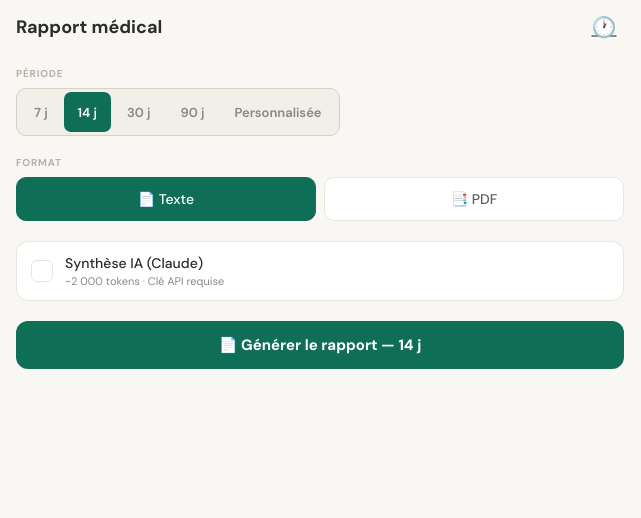
it: ReportBuilderComponent › période personnalisée › affiche un message d'erreur si la date de fin est antérieure à la date de début
The width and height of the screenshot is (641, 518).
Click the button with test id "window-custom".
click(278, 112)  # box [220,92,336,132]
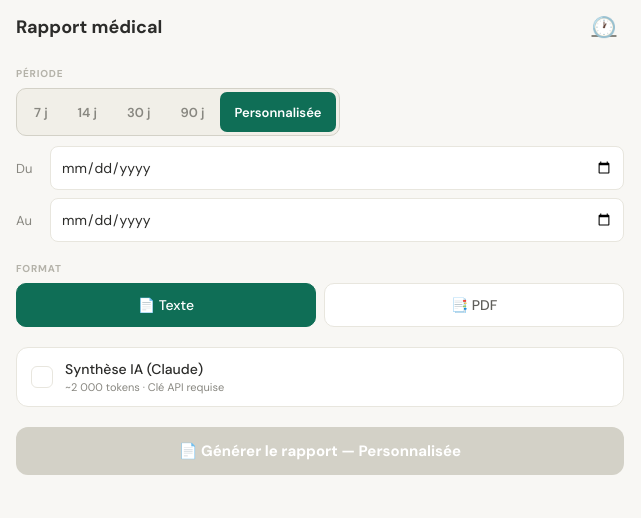
Type "2026-05-10" into the date field with test id "custom-start-date".
click(337, 168); type("2026-05-10")  # box [50,146,624,190]
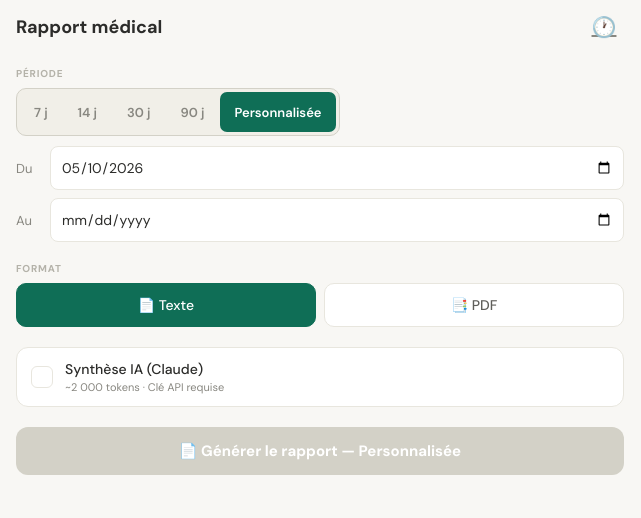
Type "2026-05-01" into the date field with test id "custom-end-date".
click(337, 220); type("2026-05-01")  # box [50,198,624,242]
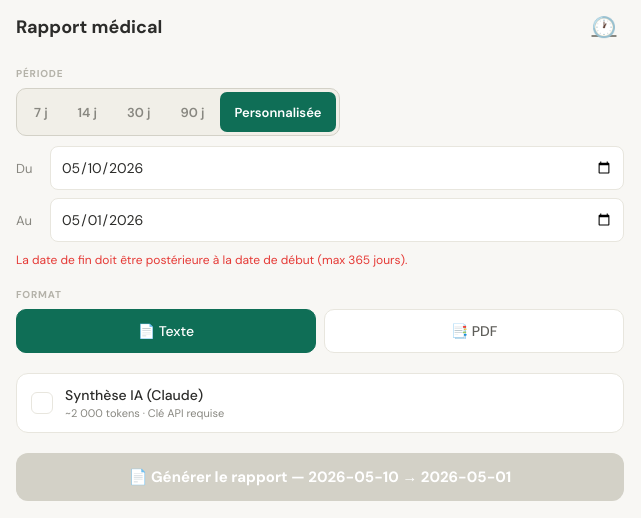
Now the message "La date de fin doit être postérieure à la date de début (max 365 jours)." is shown, box [16,252,407,268]
